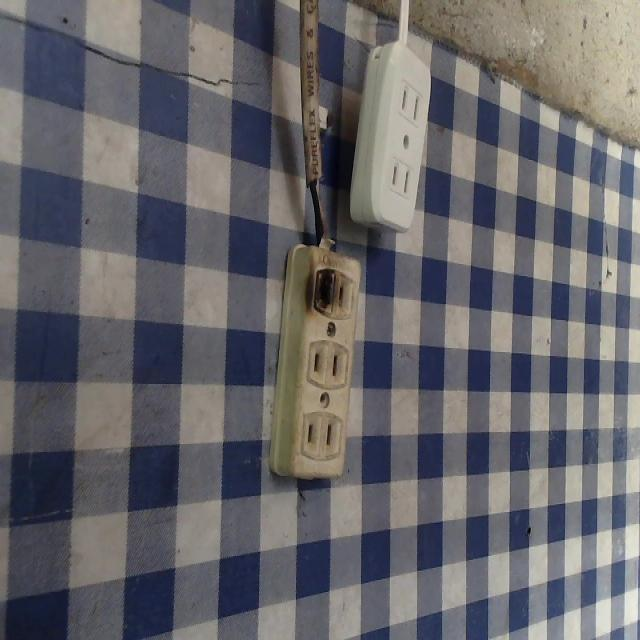-: (306, 260, 340, 321)
